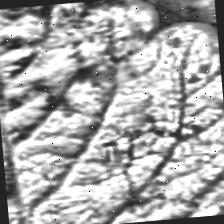Angular Leafspot: (0, 0, 182, 163)
